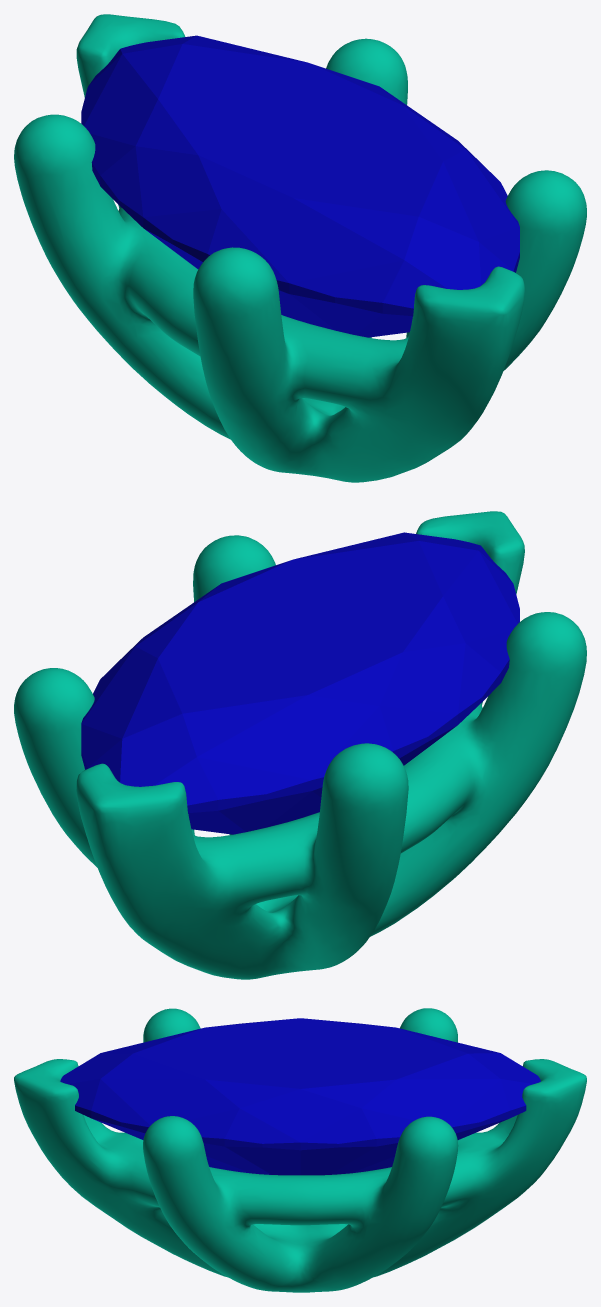
File: Marquise.glb
3 views of the same model, one above another, from view 1: azimuth 30°, elevation 25°; view 2: azimuth 150°, elevation 25°; view 3: azimuth 270°, elevation 25° (orthographic). The views are drawn at different scales.
Parts seen in each view (by area): view 1: /GSMOD388300-6 PRONG_Marquise_IJ.3dm, Diamond_Marquise; view 2: /GSMOD388300-6 PRONG_Marquise_IJ.3dm, Diamond_Marquise; view 3: /GSMOD388300-6 PRONG_Marquise_IJ.3dm, Diamond_Marquise.
Part boxes in pixels (x1=…): /GSMOD388300-6 PRONG_Marquise_IJ.3dm: x1=14, y1=14, x2=586, y2=482; Diamond_Marquise: x1=81, y1=35, x2=519, y2=337; /GSMOD388300-6 PRONG_Marquise_IJ.3dm: x1=14, y1=511, x2=586, y2=979; Diamond_Marquise: x1=81, y1=532, x2=519, y2=834; /GSMOD388300-6 PRONG_Marquise_IJ.3dm: x1=14, y1=1008, x2=586, y2=1292; Diamond_Marquise: x1=60, y1=1018, x2=540, y2=1175.
Bounding box in the file's own units: 7.53 × 6.22 × 13.74.
